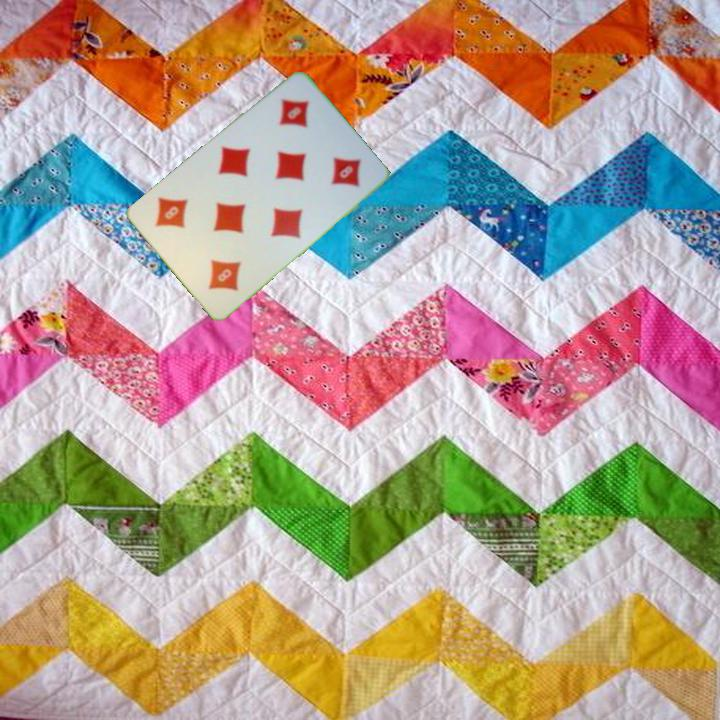d_8.png: (176, 224, 262, 310), (255, 79, 340, 165)
